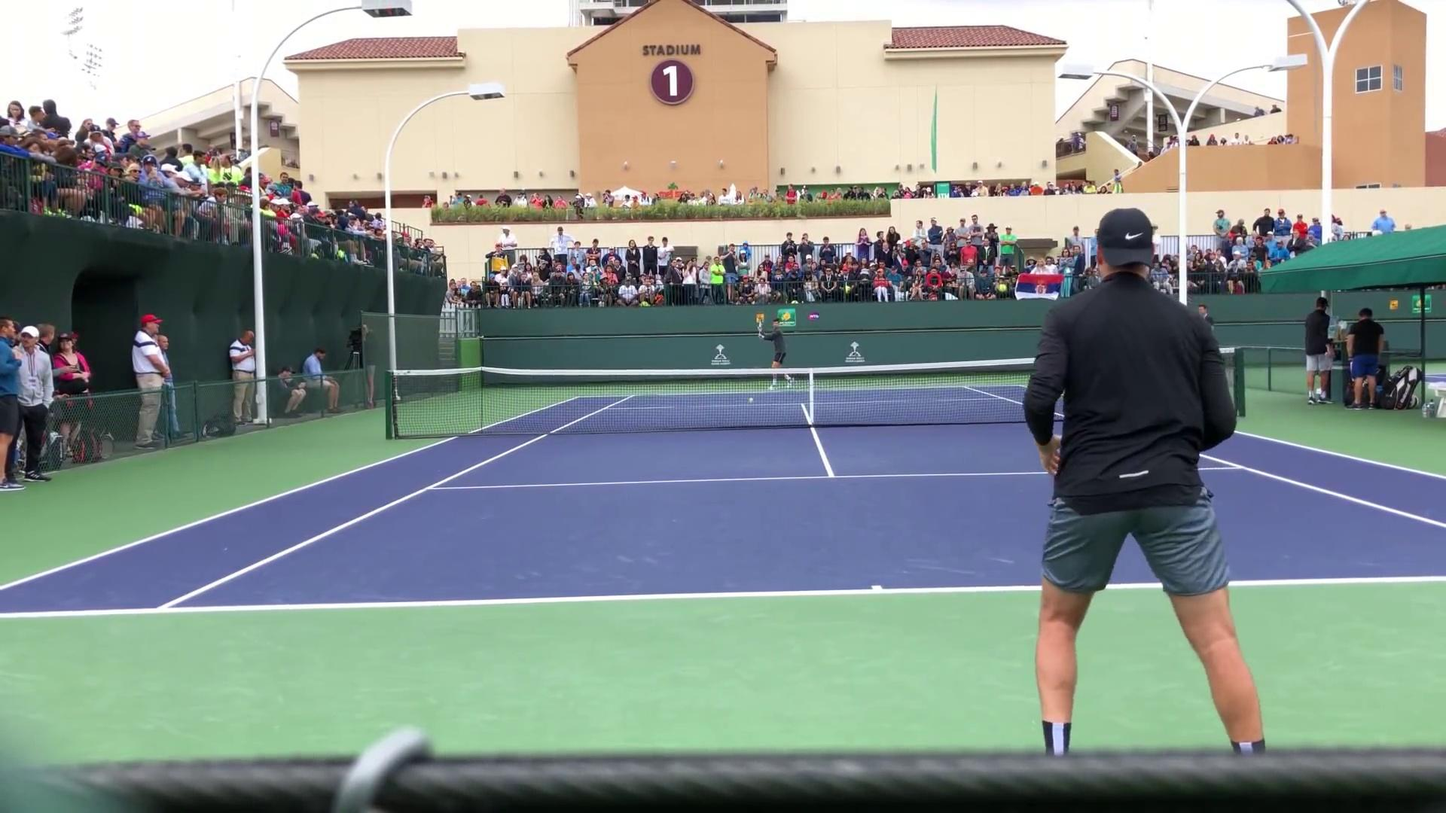ball: (747, 397, 754, 403)
